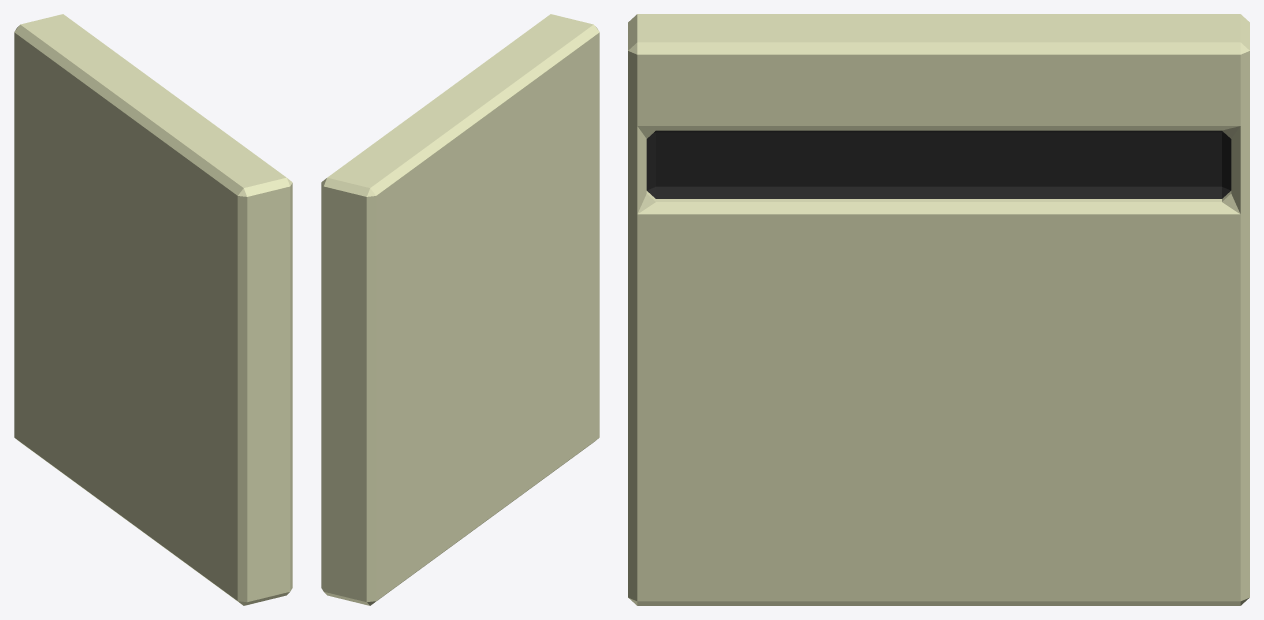
The model's file is KeyPad.fbx.
3 renders of one model, left to right at view 1: azimuth 30°, elevation 25°; view 2: azimuth 150°, elevation 25°; view 3: azimuth 270°, elevation 25°, orthographic. The views are drawn at different scales.
Parts seen in each view (by area): view 1: Cube; view 2: Cube; view 3: Cube.
Part boxes in pixels (x1,y1,x2,y2): Cube: (14, 14, 292, 605); Cube: (321, 14, 599, 605); Cube: (628, 14, 1249, 605).
Size of the model in its own units: 10.44 by 75.72 by 75.72.
